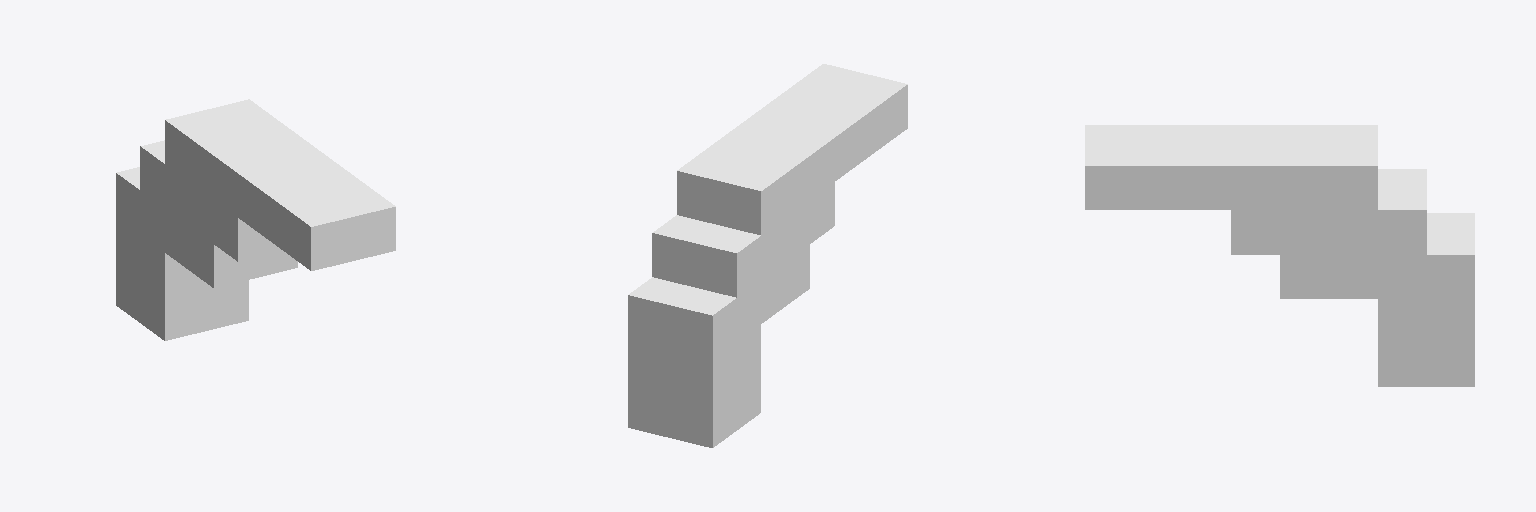
File: revolver.obj
The picture shows the model from 3 angles: view 1: azimuth 30°, elevation 25°; view 2: azimuth 150°, elevation 25°; view 3: azimuth 270°, elevation 25°; orthographic projection.
Parts seen in each view (by area): view 1: object 1; view 2: object 1; view 3: object 1.
Part boxes in pixels (x1,y1,x2,y2): object 1: (116, 99, 395, 340); object 1: (628, 64, 907, 447); object 1: (1085, 125, 1474, 386).
Size of the model in its own units: 0.2 by 0.5 by 0.8.